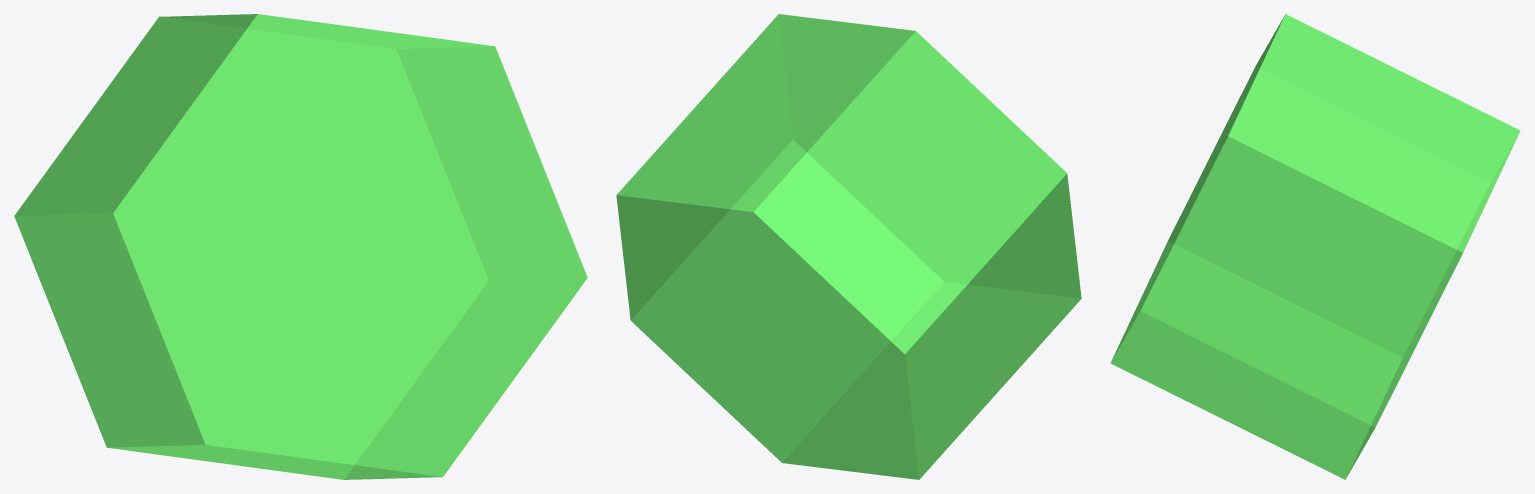
3 views of the same model, side by side, from view 1: azimuth 30°, elevation 25°; view 2: azimuth 150°, elevation 25°; view 3: azimuth 270°, elevation 25° (orthographic). The views are drawn at different scales.
Parts seen in each view (by area): view 1: root; view 2: root; view 3: root.
Boxes of the visible parts, left/top/right/bottom form: root: left=14, top=14, right=587, bottom=479; root: left=616, top=14, right=1081, bottom=479; root: left=1110, top=14, right=1520, bottom=479.
Size of the model in its own units: 5.51 by 6.11 by 5.44.
